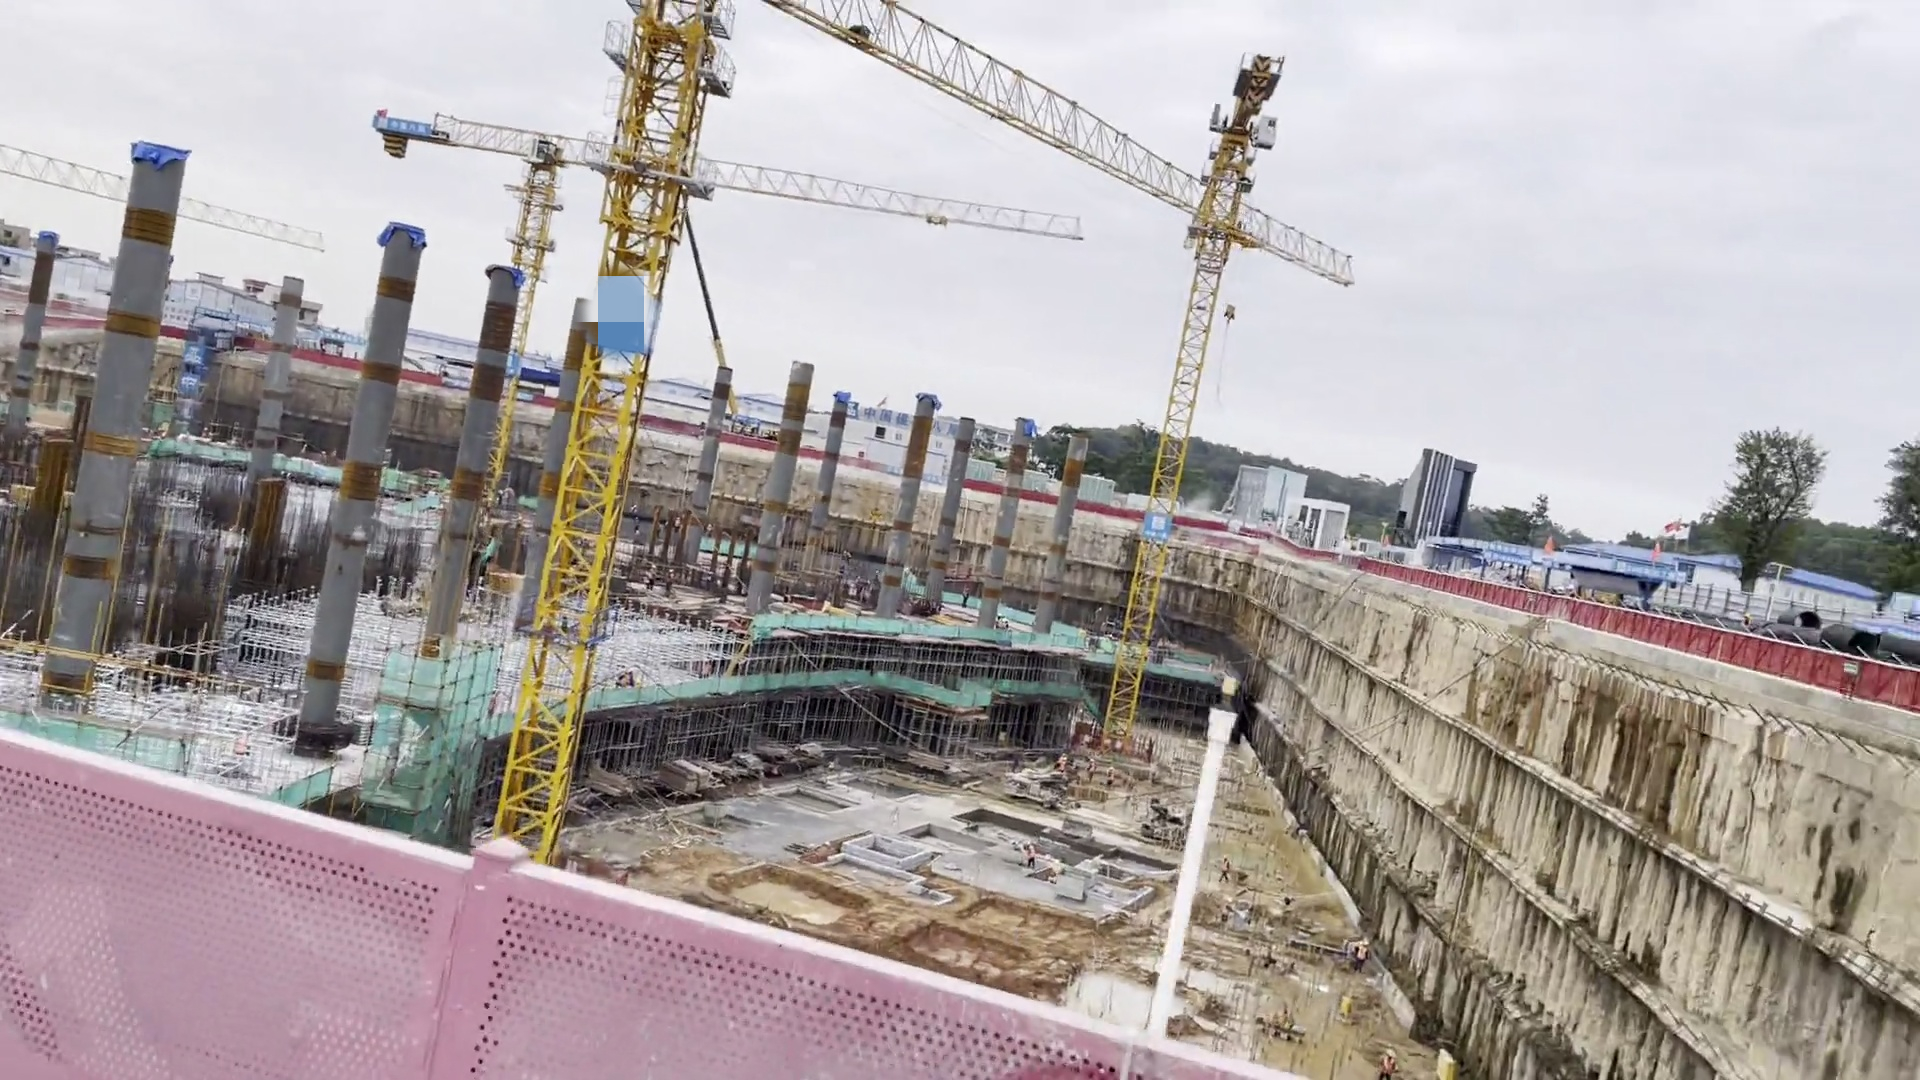brick: (842, 834, 930, 886), (1034, 837, 1073, 861)
fence: (1, 724, 800, 1080), (777, 934, 1228, 1080), (1622, 608, 1920, 705)
helmet: (1088, 756, 1095, 763), (667, 567, 675, 574), (1110, 766, 1117, 773), (651, 562, 657, 568), (1025, 841, 1032, 845)
person: (661, 562, 681, 613), (1220, 852, 1237, 887), (1022, 837, 1039, 872), (646, 557, 655, 598), (1086, 755, 1097, 788), (1107, 763, 1118, 790)
scaffold: (344, 709, 380, 741)
slogan: (572, 268, 673, 372), (1437, 520, 1545, 580), (356, 95, 440, 153), (173, 315, 208, 428), (1613, 550, 1696, 588), (1133, 506, 1187, 552), (500, 343, 525, 393)
vest: (1024, 845, 1037, 862), (667, 573, 675, 599), (1220, 860, 1231, 875), (648, 568, 655, 587), (1087, 762, 1097, 776), (1107, 770, 1116, 785)
wood: (489, 571, 527, 603)
